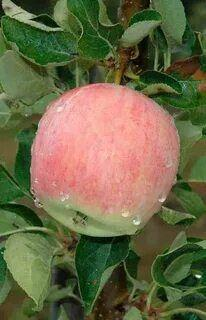Apple: (31, 84, 180, 236)
